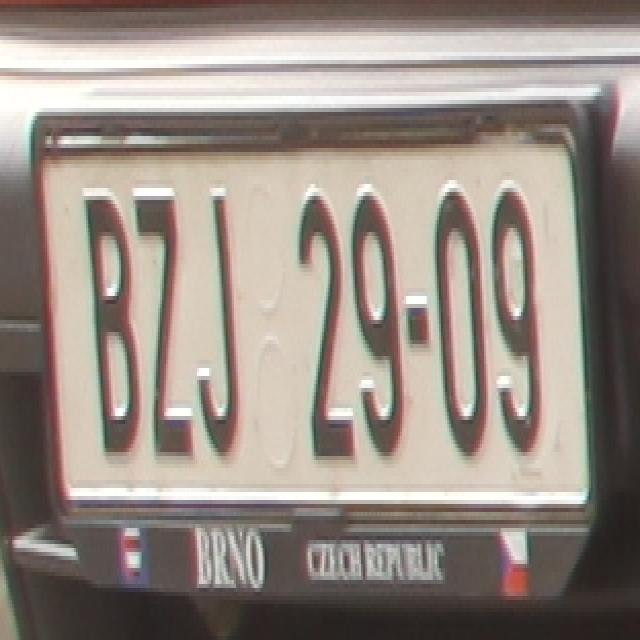0: (433, 184, 492, 460)
2: (295, 188, 357, 464)
9: (488, 184, 546, 456), (349, 188, 406, 464)
B: (82, 188, 144, 464)
Z: (135, 188, 195, 464)
